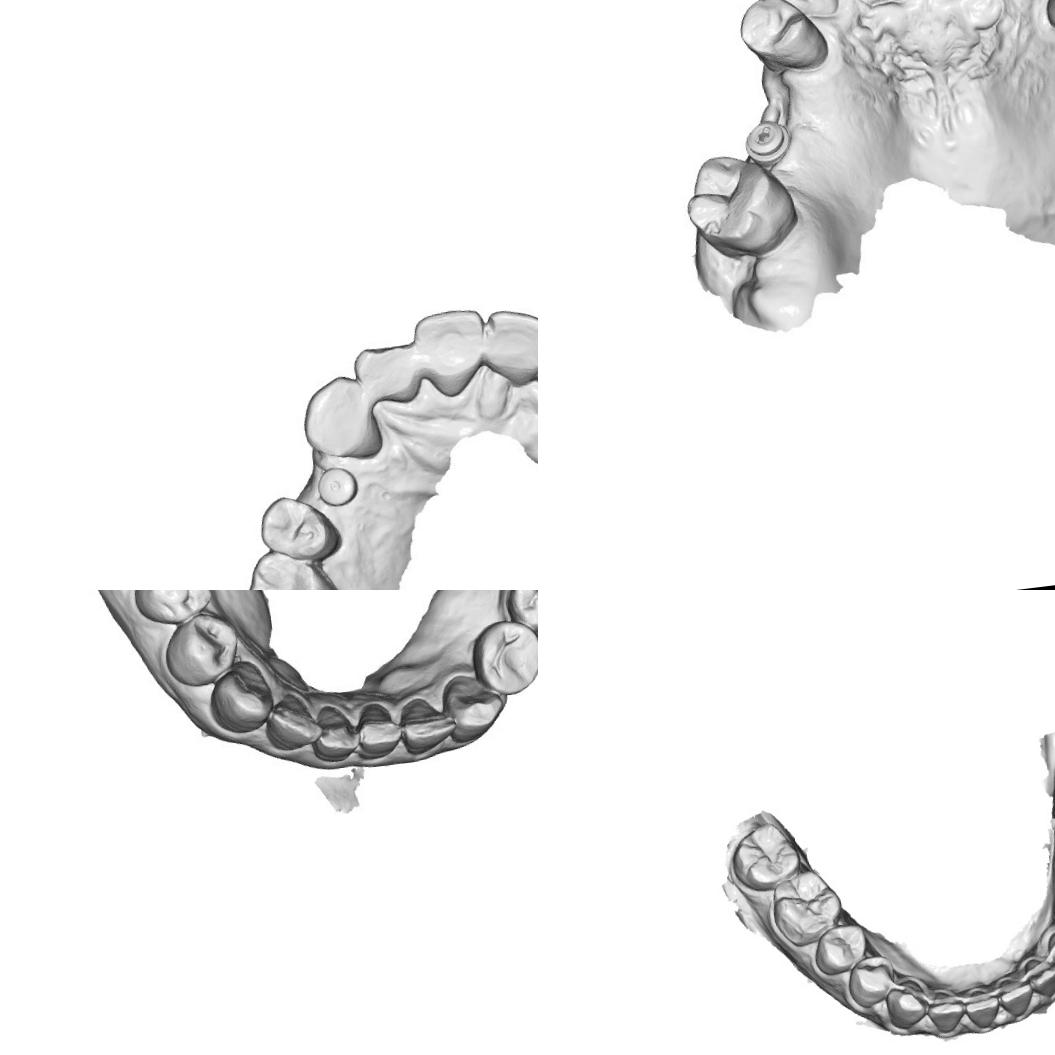canine: (298, 371, 390, 466), (204, 660, 276, 742), (442, 673, 506, 740), (880, 976, 929, 1032), (765, 0, 844, 25), (1045, 926, 1055, 976)
implant: (312, 458, 365, 518)
implant_minus: (739, 112, 799, 174)
incisor: (413, 301, 497, 391), (348, 334, 426, 416), (481, 300, 538, 388), (396, 692, 460, 764), (352, 698, 410, 768), (305, 697, 365, 760), (268, 689, 322, 752), (922, 986, 970, 1037), (962, 984, 1006, 1032), (993, 974, 1036, 1020), (1021, 954, 1055, 1001)
molar: (682, 148, 808, 266), (766, 863, 848, 951), (726, 817, 805, 896), (245, 550, 333, 590)
premolar: (739, 0, 832, 84), (254, 488, 341, 568), (162, 606, 240, 687), (474, 615, 538, 702), (810, 920, 871, 978), (843, 952, 900, 1011), (128, 590, 213, 629), (503, 590, 538, 638)
